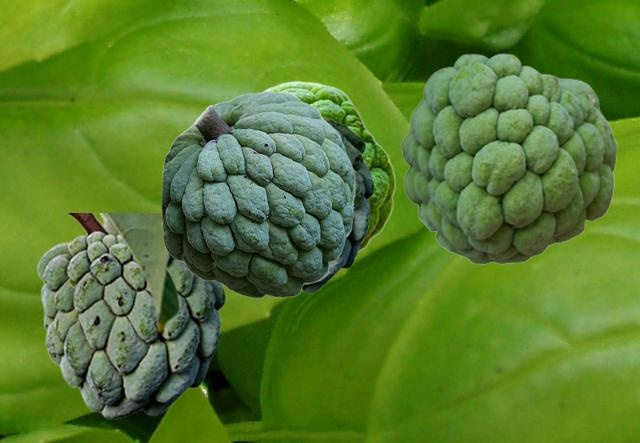atis: (400, 53, 616, 263), (161, 91, 354, 297), (36, 213, 228, 419), (262, 80, 395, 253), (267, 112, 377, 296)
